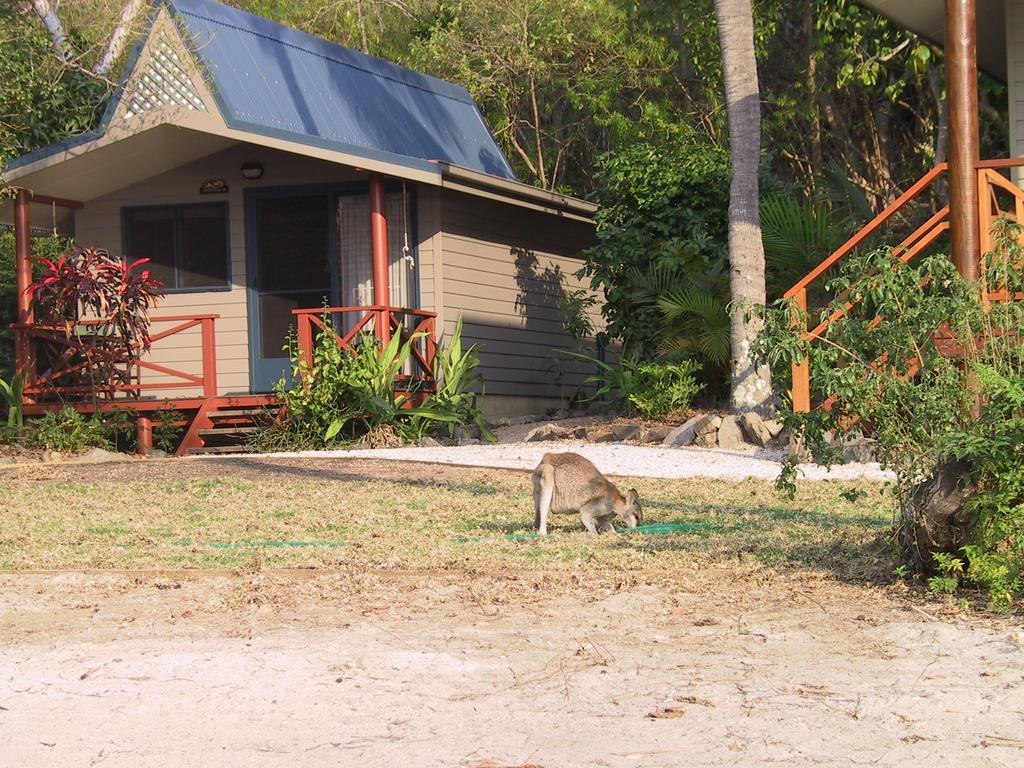kangaroo: (536, 452, 648, 538)
